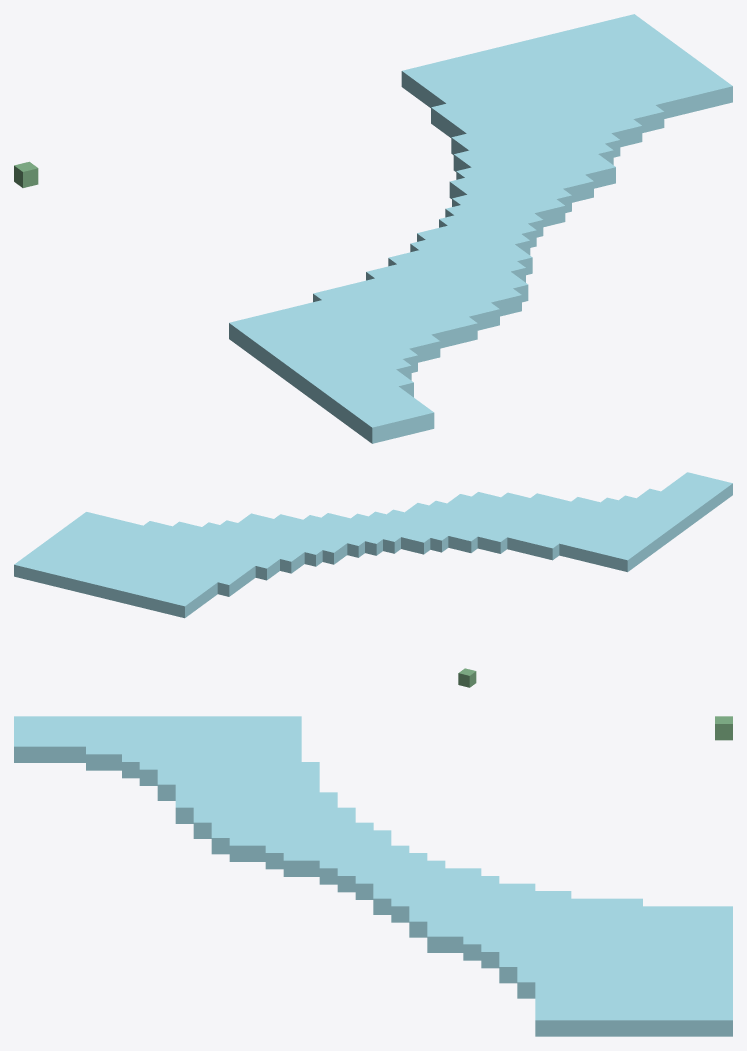
The model's file is cw_water.obj.
3 views of the same model, one above another, from view 1: azimuth 30°, elevation 25°; view 2: azimuth 150°, elevation 25°; view 3: azimuth 270°, elevation 25° (orthographic). The views are drawn at different scales.
Bounding box in the file's own units: 4 × 0.1 × 4.
Materials: 1 (1 with a texture image).
